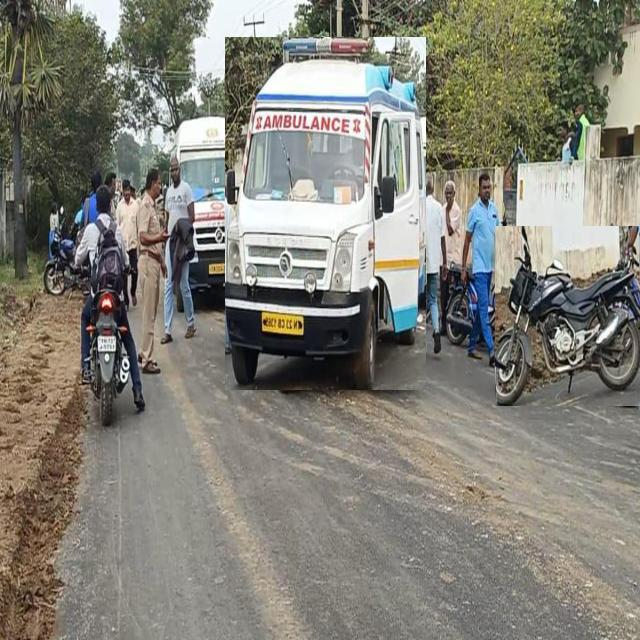emergency: (225, 38, 426, 390), (172, 116, 230, 289)
motorcycle: (495, 226, 640, 406), (75, 184, 145, 424), (44, 229, 90, 296)
